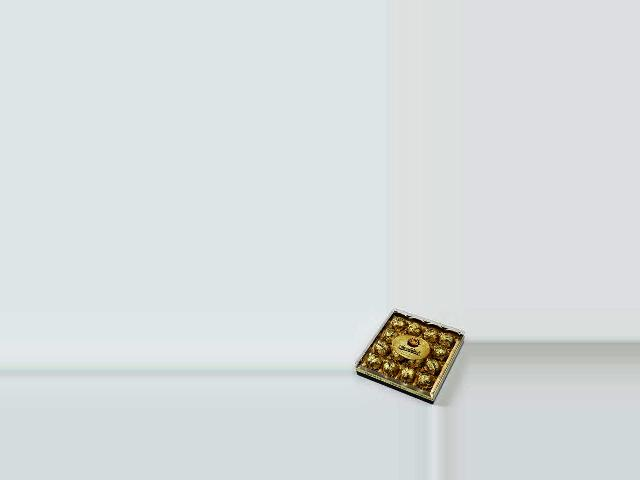chocolate: (353, 308, 465, 406)
